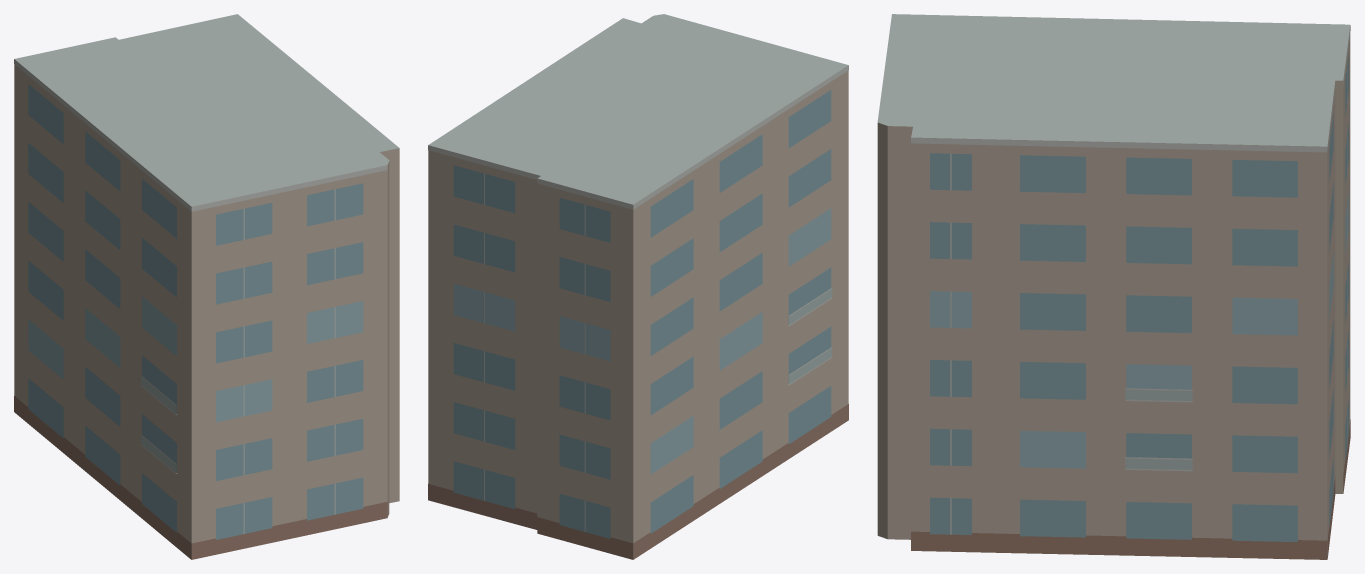
File: survey-upis-32581011.glb
3 views of the same model, side by side, from view 1: azimuth 30°, elevation 25°; view 2: azimuth 150°, elevation 25°; view 3: azimuth 270°, elevation 25° (orthographic). The views are drawn at different scales.
Visible parts, largest first — view 1: survey-upis-32581011.tmp; view 2: survey-upis-32581011.tmp; view 3: survey-upis-32581011.tmp.
Boxes of the visible parts, x1,y1,x2,y2 form: survey-upis-32581011.tmp: [14, 14, 399, 559]; survey-upis-32581011.tmp: [428, 14, 848, 559]; survey-upis-32581011.tmp: [877, 14, 1350, 559].
Bounding box in the file's own units: 11.85 × 17.2 × 17.85.
